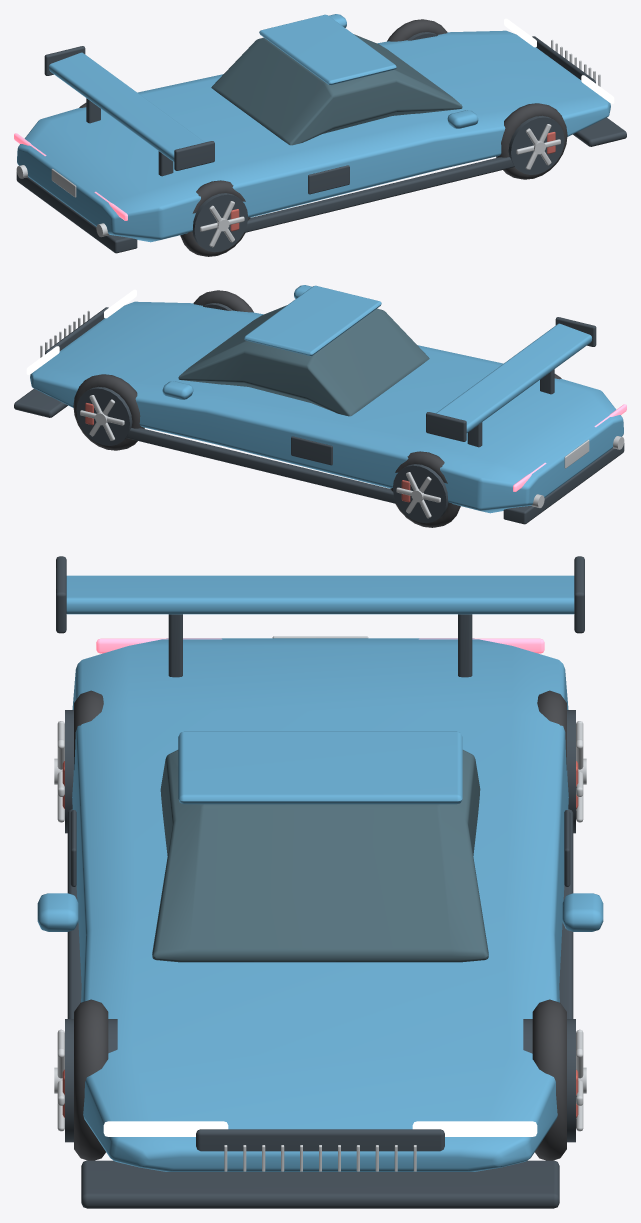
Rendered from SM_sup_hyper.glb.
3 views of the same model, one above another, from view 1: azimuth 30°, elevation 25°; view 2: azimuth 150°, elevation 25°; view 3: azimuth 270°, elevation 25° (orthographic). The views are drawn at different scales.
Visible parts, largest first — view 1: SM_sup_hyper; view 2: SM_sup_hyper; view 3: SM_sup_hyper.
Part boxes in pixels (x1,y1,x2,y2): SM_sup_hyper: [14, 14, 626, 256]; SM_sup_hyper: [14, 285, 626, 527]; SM_sup_hyper: [37, 556, 603, 1208].
Bounding box in the file's own units: 4.84 × 1.11 × 2.29.
